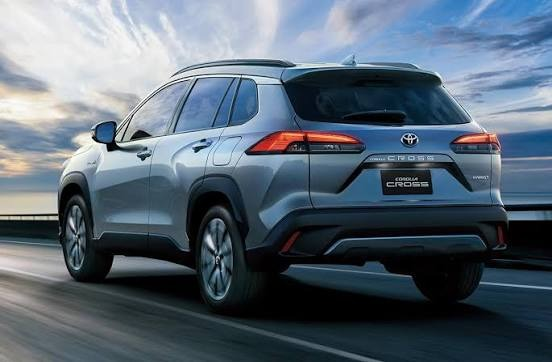car: (53, 58, 508, 310)
